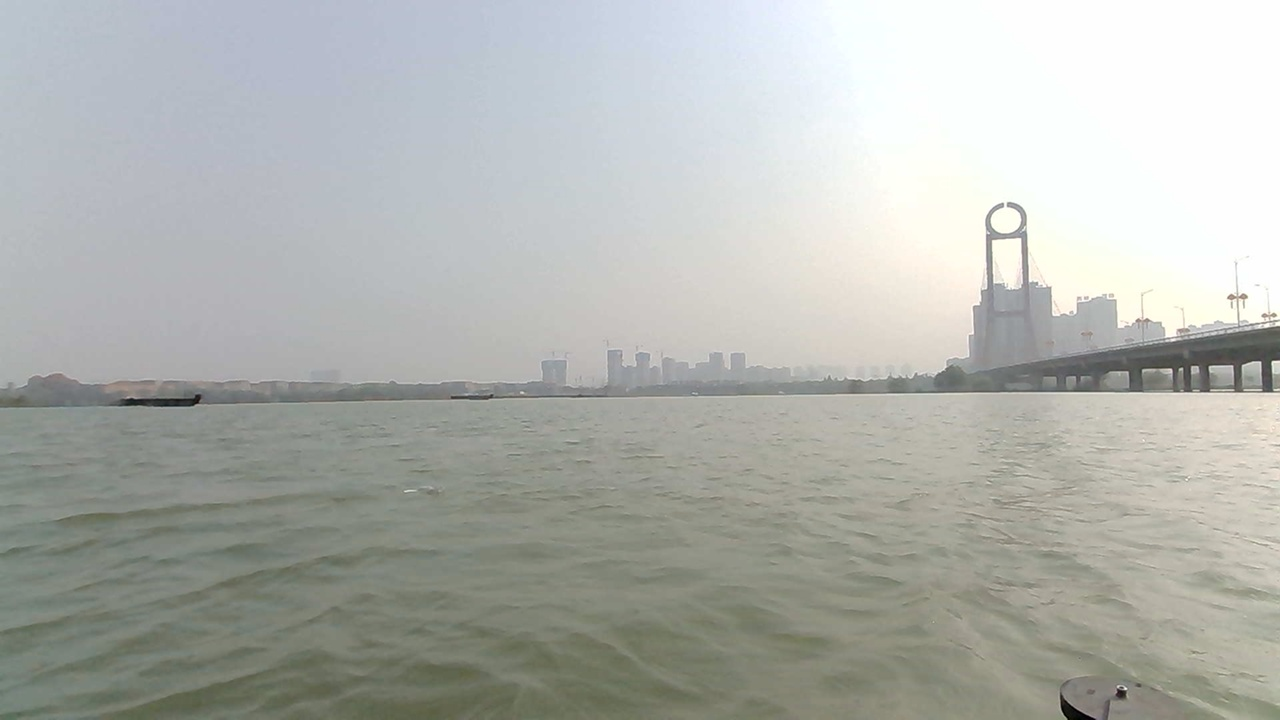bottle: (402, 471, 473, 519)
